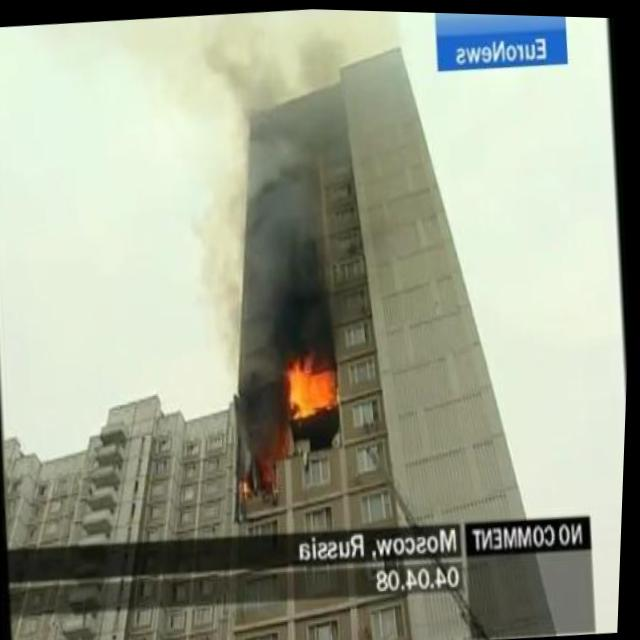fire: (282, 344, 344, 419)
